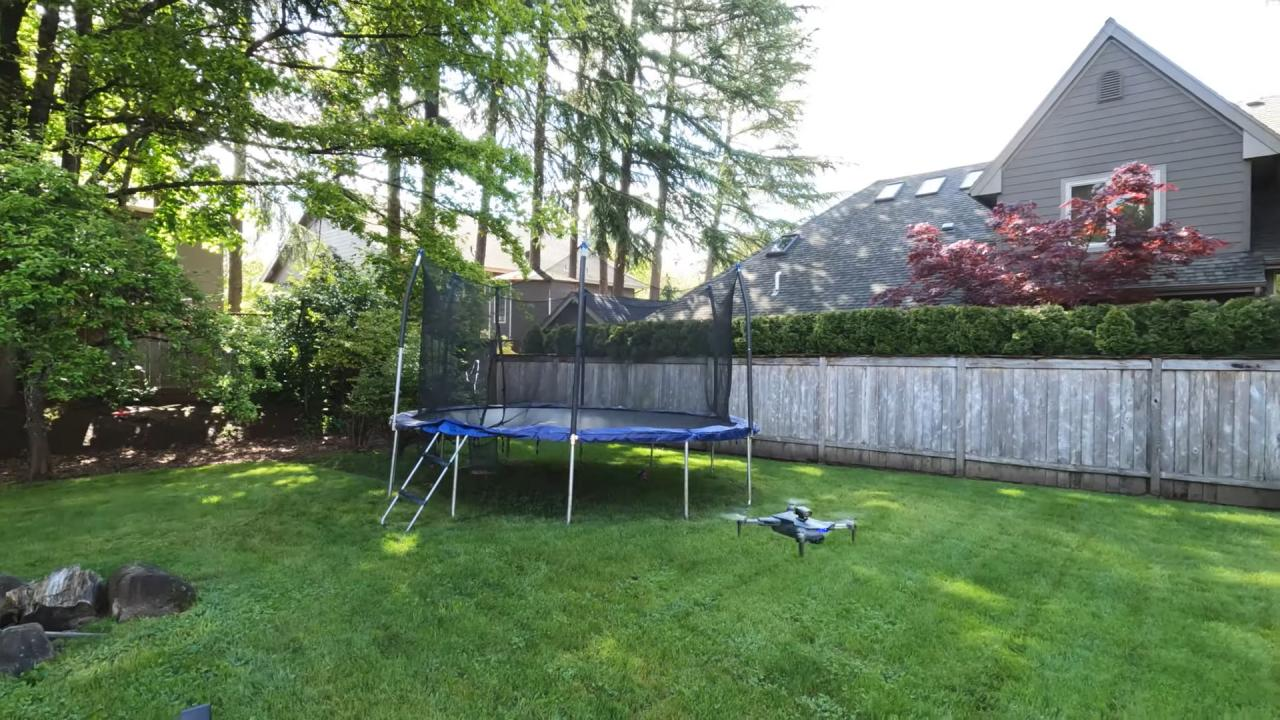Drone: (708, 492, 878, 563)
